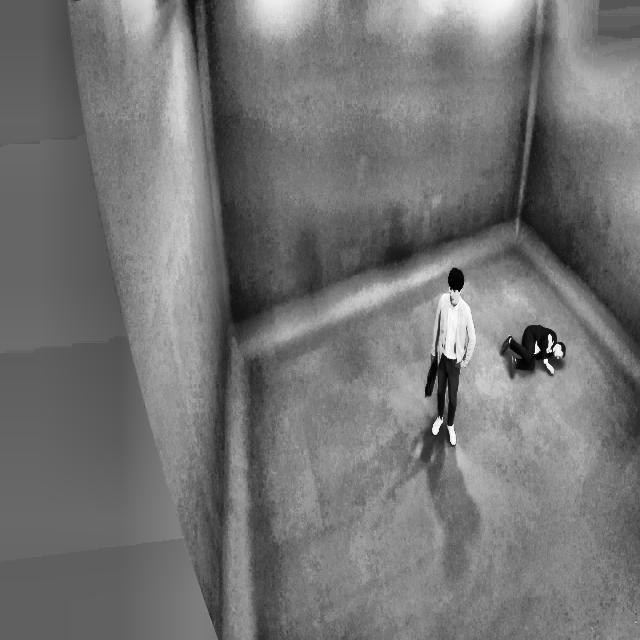assult: (422, 259, 568, 451), (494, 319, 569, 382)
